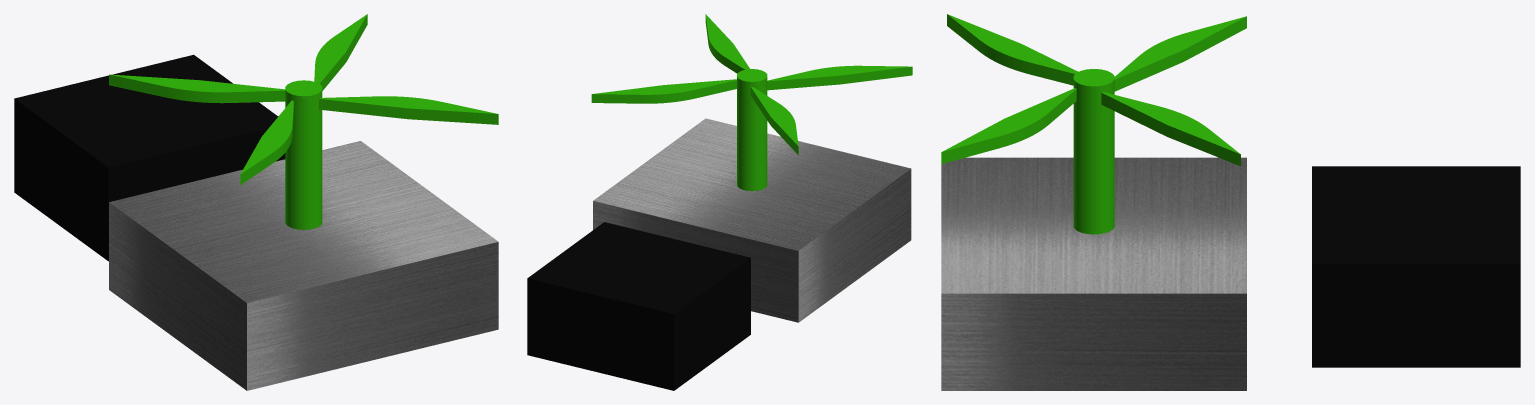
3 renders of one model, left to right at view 1: azimuth 30°, elevation 25°; view 2: azimuth 150°, elevation 25°; view 3: azimuth 270°, elevation 25°, orthographic. The views are drawn at different scales.
Parts seen in each view (by area): view 1: Box001, Box006, Cylinder001, Box004, Box002, Box003, Box005; view 2: Box001, Box006, Cylinder001, Box005, Box003, Box002, Box004; view 3: Box001, Box006, Cylinder001, Box005, Box004, Box002, Box003.
Part boxes in pixels (x1=…): Box001: x1=109, y1=141, x2=498, y2=390; Box006: x1=14, y1=54, x2=285, y2=261; Cylinder001: x1=285, y1=80, x2=322, y2=229; Box004: x1=319, y1=96, x2=498, y2=124; Box002: x1=109, y1=74, x2=285, y2=103; Box003: x1=240, y1=100, x2=293, y2=184; Box005: x1=314, y1=14, x2=367, y2=90; Box001: x1=593, y1=118, x2=911, y2=322; Box006: x1=527, y1=222, x2=750, y2=390; Cylinder001: x1=737, y1=69, x2=767, y2=191; Box005: x1=591, y1=79, x2=736, y2=103; Box003: x1=767, y1=65, x2=912, y2=90; Box002: x1=750, y1=86, x2=798, y2=154; Box004: x1=705, y1=14, x2=749, y2=73; Box001: x1=941, y1=157, x2=1246, y2=390; Box006: x1=1312, y1=166, x2=1520, y2=367; Cylinder001: x1=1073, y1=69, x2=1114, y2=234; Box005: x1=1101, y1=92, x2=1240, y2=166; Box004: x1=941, y1=88, x2=1076, y2=163; Box002: x1=1114, y1=16, x2=1246, y2=91; Box003: x1=947, y1=14, x2=1078, y2=85.
Size of the model in its own units: 0.9533 by 0.776 by 1.66.
3 materials, 2 textured.
